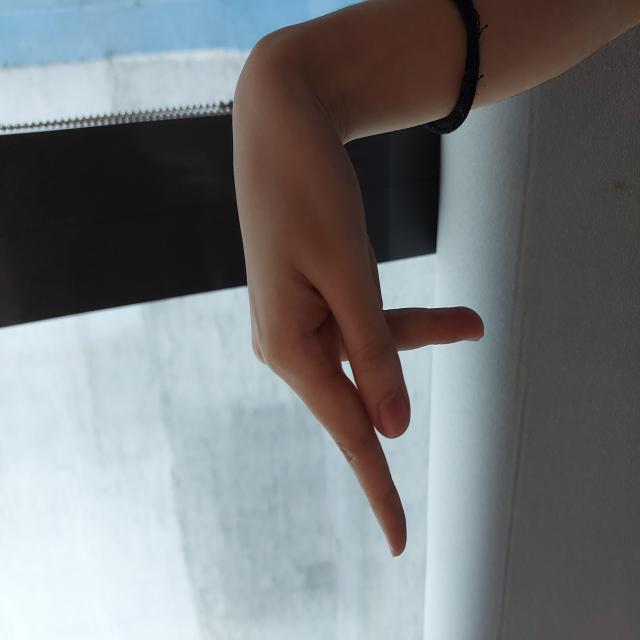P: (83, 231, 560, 485)
